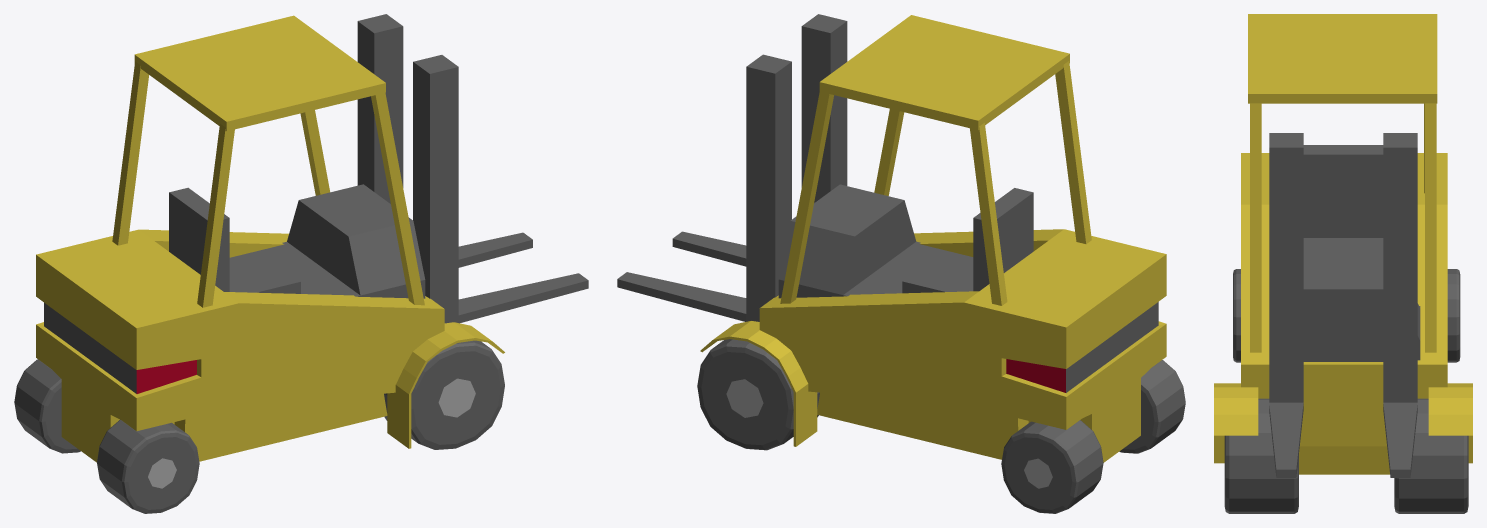
File: forklift.fbx
3 renders of one model, left to right at view 1: azimuth 30°, elevation 25°; view 2: azimuth 150°, elevation 25°; view 3: azimuth 270°, elevation 25°, orthographic. The views are drawn at different scales.
Parts seen in each view (by area): view 1: Cube.022; view 2: Cube.022; view 3: Cube.022.
Boxes of the visible parts, x1,y1,x2,y2 form: Cube.022: (14,14,588,513); Cube.022: (617,14,1185,513); Cube.022: (1214,14,1472,513).
Size of the model in its own units: 547 by 402 by 246.
